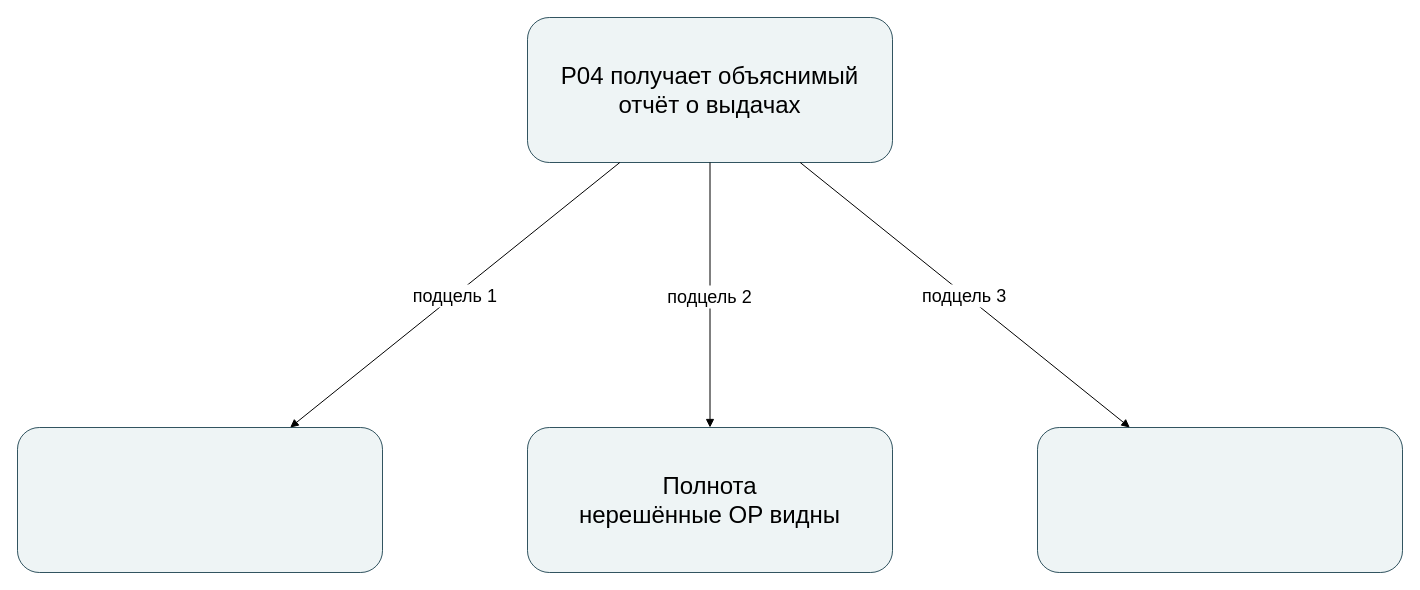
Some shapes in this 1420 by 590 pixel diagram are drawn without their labels. The centre of each missing label's shape, as x and y in pixels:
"Активное время не более 40 минут" goes at point (1219, 499).
"Однократность один вклад на OP" goes at point (199, 499).
